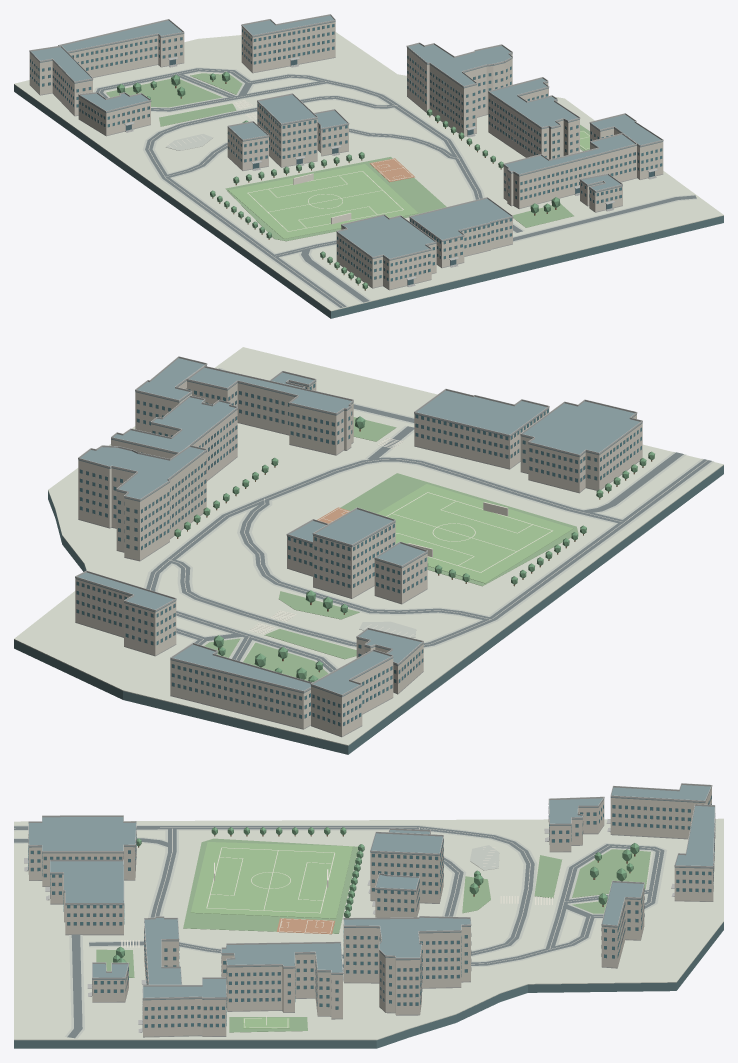
File: Campus.fbx
3 renders of one model, top to bottom at view 1: azimuth 30°, elevation 25°; view 2: azimuth 150°, elevation 25°; view 3: azimuth 270°, elevation 25°, orthographic. The views are drawn at different scales.
Visible parts, largest first — view 1: PACKAGE_D03_UNITY_D03_CAMPUS__Campus_surface, PACKAGE_D03_UNITY_D03_CAMPUS__Sports_field, PACKAGE_D03_UNITY_D03_CAMPUS__Campus_plinth, PACKAGE_D03_UNITY_D03_CAMPUS_ac63cdf883, PACKAGE_D03_UNITY_D03_CAMPUS_f252bc0d66, PACKAGE_D03_UNITY_D03_CAMPUS_0e662ead48, PACKAGE_D03_UNITY_D03_CAMPUS__Road_2, PACKAGE_D03_UNITY_D03_CAMPUS_8e8e8b62df, PACKAGE_D03_UNITY_D03_CAMPUS___roof_2684406e33, PACKAGE_D03_UNITY_D03_CAMPUS_9d45fc07bd, PACKAGE_D03_UNITY_D03_CAMPUS_ce106fb7fb, PACKAGE_D03_UNITY_D03_CAMPUS__Road_0 (+39 smaller); view 2: PACKAGE_D03_UNITY_D03_CAMPUS__Campus_surface, PACKAGE_D03_UNITY_D03_CAMPUS__Sports_field, PACKAGE_D03_UNITY_D03_CAMPUS__Campus_plinth, PACKAGE_D03_UNITY_D03_CAMPUS_ac63cdf883, PACKAGE_D03_UNITY_D03_CAMPUS_f252bc0d66, PACKAGE_D03_UNITY_D03_CAMPUS_9d45fc07bd, PACKAGE_D03_UNITY_D03_CAMPUS___roof_2684406e33, PACKAGE_D03_UNITY_D03_CAMPUS__Road_2, PACKAGE_D03_UNITY_D03_CAMPUS_ce106fb7fb, PACKAGE_D03_UNITY_D03_CAMPUS_8e8e8b62df, PACKAGE_D03_UNITY_D03_CAMPUS__Road_0, PACKAGE_D03_UNITY_D03_CAMPUS___roof_918c55add8 (+38 smaller); view 3: PACKAGE_D03_UNITY_D03_CAMPUS__Campus_surface, PACKAGE_D03_UNITY_D03_CAMPUS__Sports_field, PACKAGE_D03_UNITY_D03_CAMPUS_ac63cdf883, PACKAGE_D03_UNITY_D03_CAMPUS__Campus_plinth, PACKAGE_D03_UNITY_D03_CAMPUS_0e662ead48, PACKAGE_D03_UNITY_D03_CAMPUS___roof_2684406e33, PACKAGE_D03_UNITY_D03_CAMPUS__Road_2, PACKAGE_D03_UNITY_D03_CAMPUS__Field_lawn, PACKAGE_D03_UNITY_D03_CAMPUS_2c3548bed0, PACKAGE_D03_UNITY_D03_CAMPUS_6fdb2209e4, PACKAGE_D03_UNITY_D03_CAMPUS___roof_918c55add8, PACKAGE_D03_UNITY_D03_CAMPUS__Road_0 (+43 smaller).
Boxes of the visible parts, bbox=[...] form: PACKAGE_D03_UNITY_D03_CAMPUS__Campus_surface: bbox=[14, 32, 723, 311]; PACKAGE_D03_UNITY_D03_CAMPUS__Sports_field: bbox=[228, 164, 418, 238]; PACKAGE_D03_UNITY_D03_CAMPUS__Campus_plinth: bbox=[14, 84, 723, 318]; PACKAGE_D03_UNITY_D03_CAMPUS_ac63cdf883: bbox=[407, 48, 512, 136]; PACKAGE_D03_UNITY_D03_CAMPUS_f252bc0d66: bbox=[503, 144, 636, 208]; PACKAGE_D03_UNITY_D03_CAMPUS_0e662ead48: bbox=[488, 83, 579, 159]; PACKAGE_D03_UNITY_D03_CAMPUS__Road_2: bbox=[96, 68, 482, 257]; PACKAGE_D03_UNITY_D03_CAMPUS_8e8e8b62df: bbox=[241, 22, 335, 72]; PACKAGE_D03_UNITY_D03_CAMPUS___roof_2684406e33: bbox=[337, 216, 436, 260]; PACKAGE_D03_UNITY_D03_CAMPUS_9d45fc07bd: bbox=[69, 34, 184, 77]; PACKAGE_D03_UNITY_D03_CAMPUS_ce106fb7fb: bbox=[336, 226, 436, 289]; PACKAGE_D03_UNITY_D03_CAMPUS__Road_0: bbox=[145, 96, 393, 307]; PACKAGE_D03_UNITY_D03_CAMPUS__Campus_surface: bbox=[14, 347, 723, 745]; PACKAGE_D03_UNITY_D03_CAMPUS__Sports_field: bbox=[377, 484, 573, 583]; PACKAGE_D03_UNITY_D03_CAMPUS__Campus_plinth: bbox=[14, 465, 723, 754]; PACKAGE_D03_UNITY_D03_CAMPUS_ac63cdf883: bbox=[78, 452, 206, 560]; PACKAGE_D03_UNITY_D03_CAMPUS_f252bc0d66: bbox=[187, 381, 353, 454]; PACKAGE_D03_UNITY_D03_CAMPUS_9d45fc07bd: bbox=[170, 653, 310, 728]; PACKAGE_D03_UNITY_D03_CAMPUS___roof_2684406e33: bbox=[520, 401, 642, 457]; PACKAGE_D03_UNITY_D03_CAMPUS__Road_2: bbox=[146, 457, 623, 672]; PACKAGE_D03_UNITY_D03_CAMPUS_ce106fb7fb: bbox=[520, 415, 642, 492]; PACKAGE_D03_UNITY_D03_CAMPUS_8e8e8b62df: bbox=[75, 579, 176, 655]; PACKAGE_D03_UNITY_D03_CAMPUS__Road_0: bbox=[172, 459, 711, 647]; PACKAGE_D03_UNITY_D03_CAMPUS___roof_918c55add8: bbox=[414, 390, 549, 437]; PACKAGE_D03_UNITY_D03_CAMPUS__Campus_surface: bbox=[14, 818, 723, 1040]; PACKAGE_D03_UNITY_D03_CAMPUS__Sports_field: bbox=[190, 842, 352, 918]; PACKAGE_D03_UNITY_D03_CAMPUS_ac63cdf883: bbox=[343, 926, 470, 1014]; PACKAGE_D03_UNITY_D03_CAMPUS__Campus_plinth: bbox=[14, 922, 723, 1048]; PACKAGE_D03_UNITY_D03_CAMPUS_0e662ead48: bbox=[221, 954, 342, 1018]; PACKAGE_D03_UNITY_D03_CAMPUS___roof_2684406e33: bbox=[28, 817, 136, 853]; PACKAGE_D03_UNITY_D03_CAMPUS__Road_2: bbox=[150, 828, 664, 967]; PACKAGE_D03_UNITY_D03_CAMPUS__Field_lawn: bbox=[183, 838, 358, 933]; PACKAGE_D03_UNITY_D03_CAMPUS_2c3548bed0: bbox=[610, 788, 711, 838]; PACKAGE_D03_UNITY_D03_CAMPUS_6fdb2209e4: bbox=[143, 999, 226, 1036]; PACKAGE_D03_UNITY_D03_CAMPUS___roof_918c55add8: bbox=[50, 861, 123, 905]; PACKAGE_D03_UNITY_D03_CAMPUS__Road_0: bbox=[14, 826, 534, 955].
Bounding box in the file's own units: 156 × 22.02 × 212.
